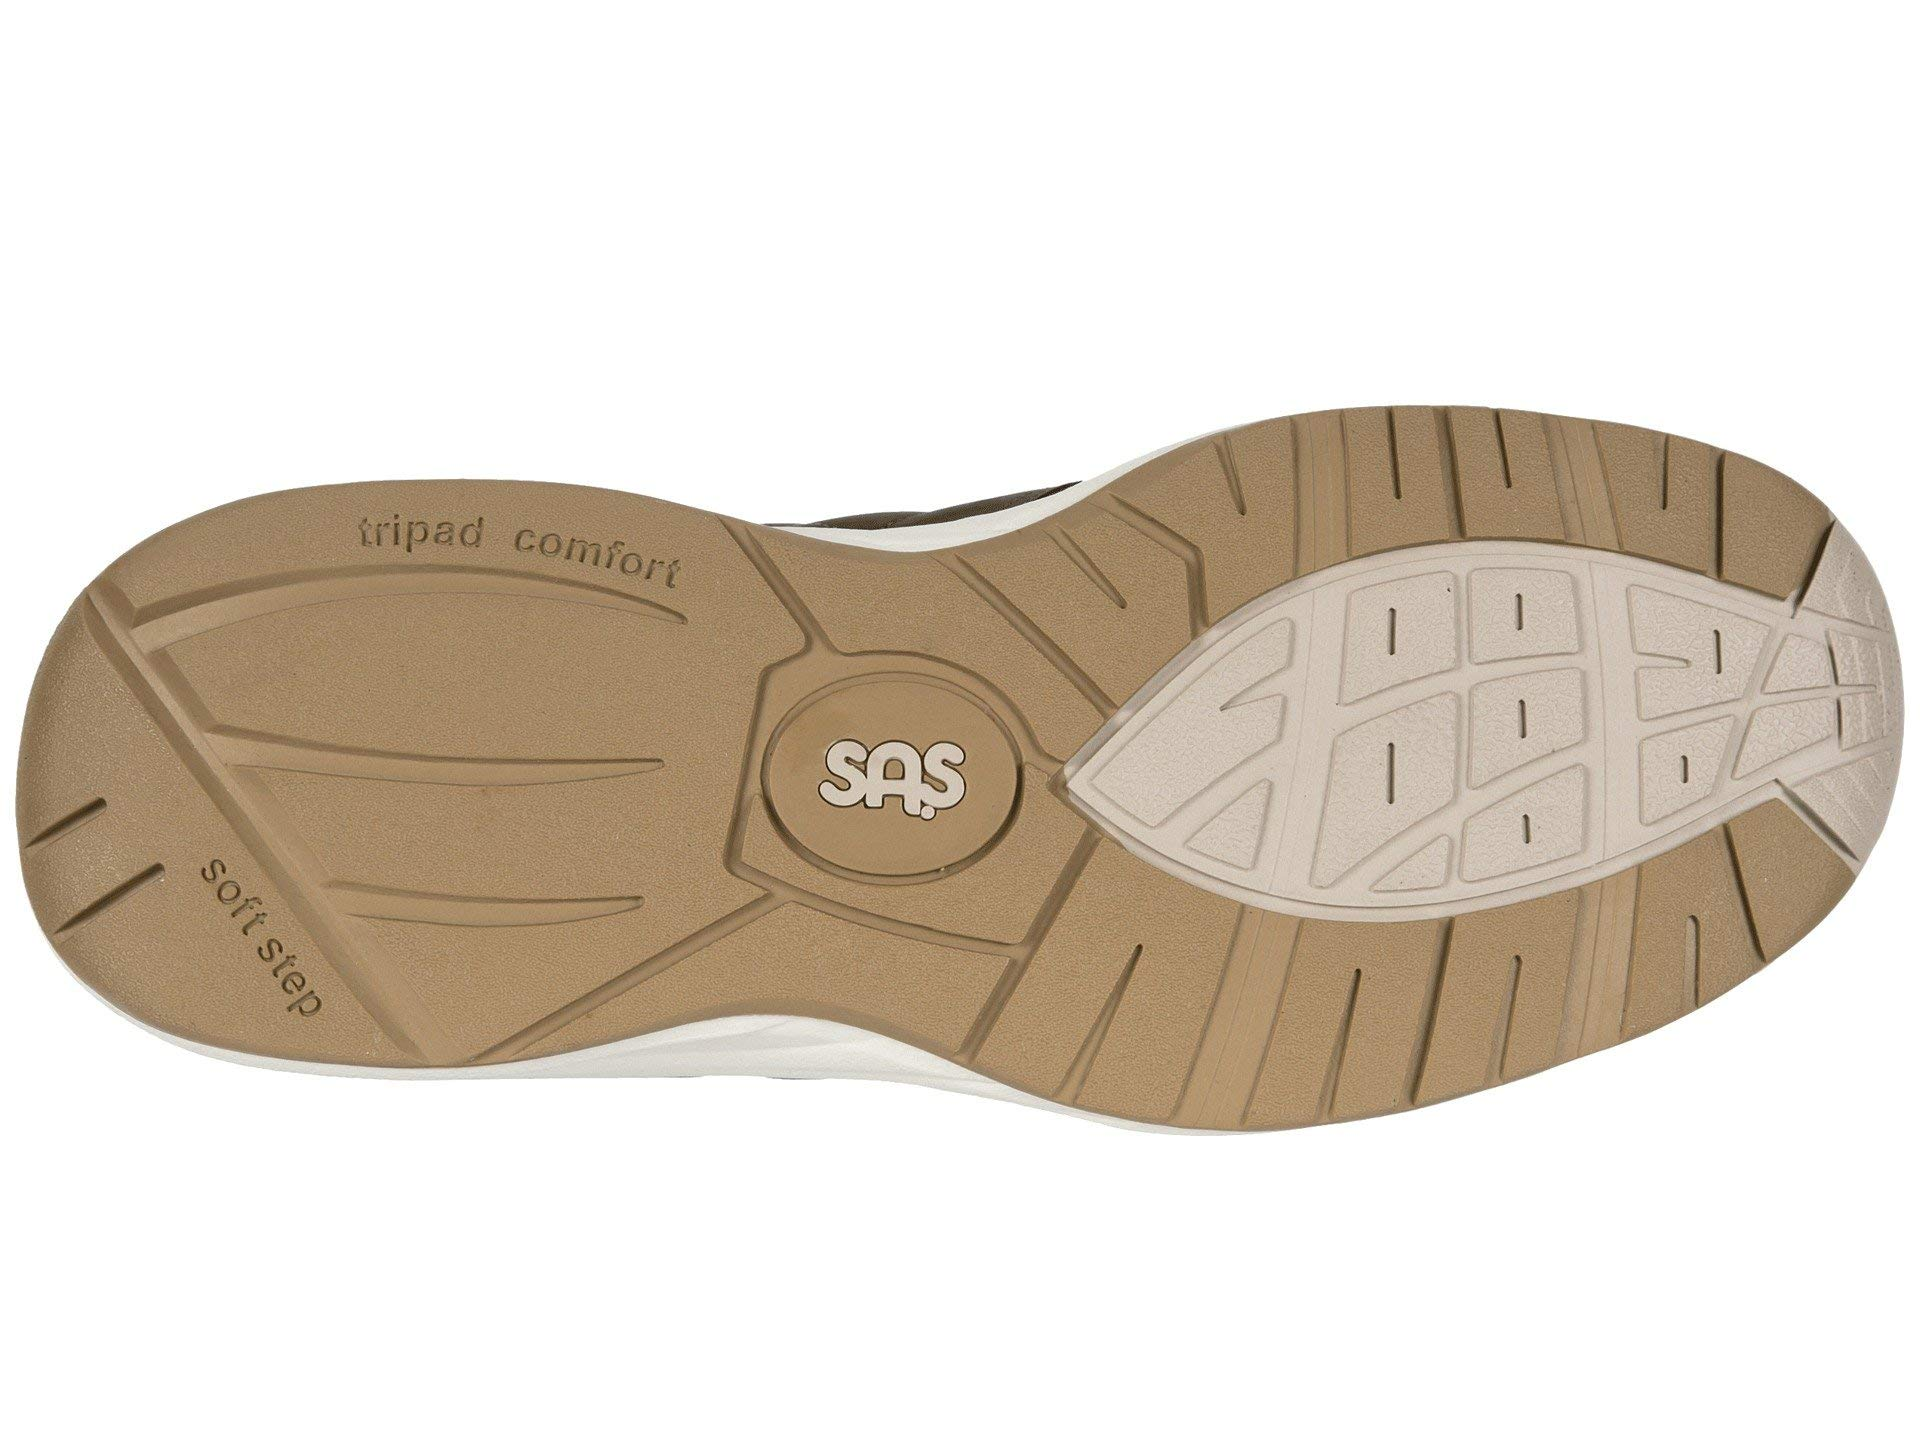circle: (717, 604, 1064, 951), (141, 799, 382, 1054), (502, 479, 708, 672)
line: (141, 799, 382, 1054)
quad: (1270, 523, 1678, 983)
text: (717, 604, 1064, 951), (141, 799, 382, 1054), (502, 479, 708, 672), (336, 492, 502, 672)
triangle: (1270, 523, 1678, 983)
